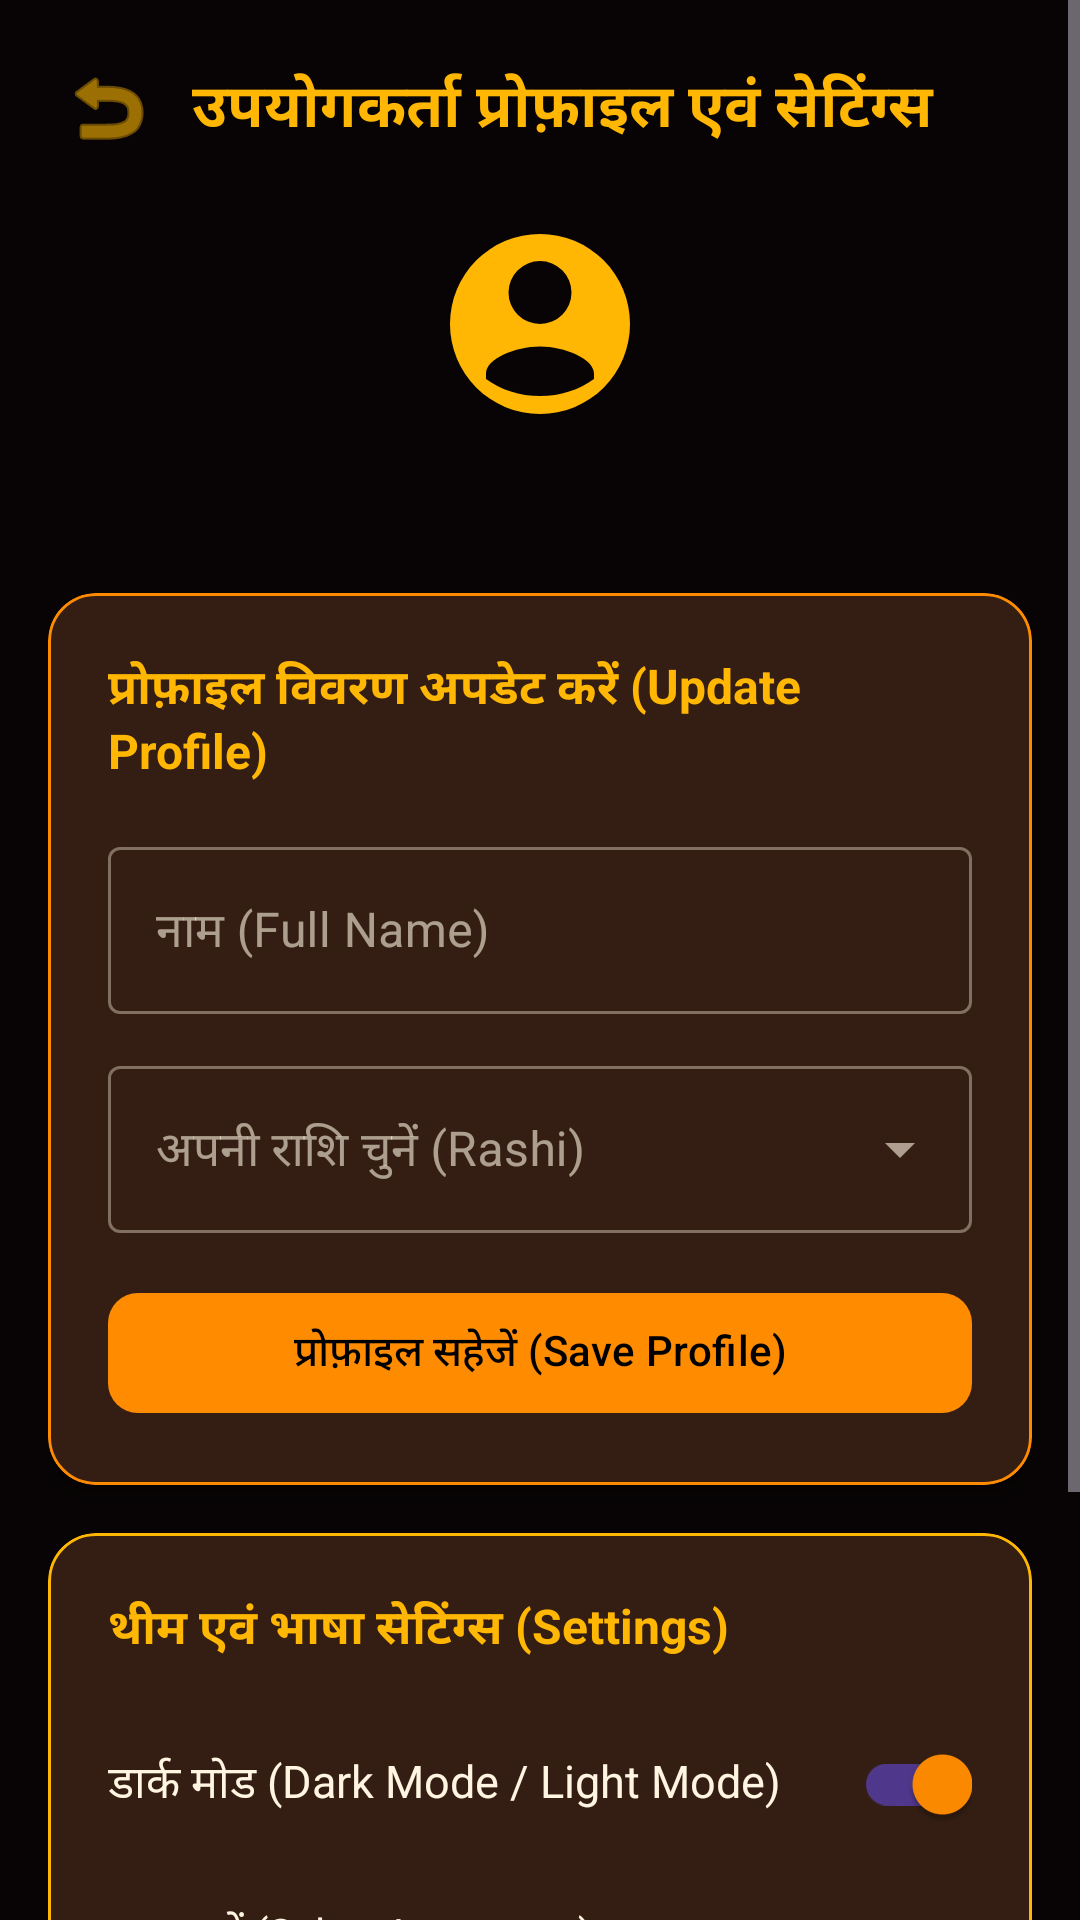

Screen size 1080px×1920px. Icon name, then its box in pixels as bbox=[x1, y1, x2, y2]:
Back: bbox=[75, 77, 144, 140]
Profile Avatar: bbox=[450, 234, 630, 414]
